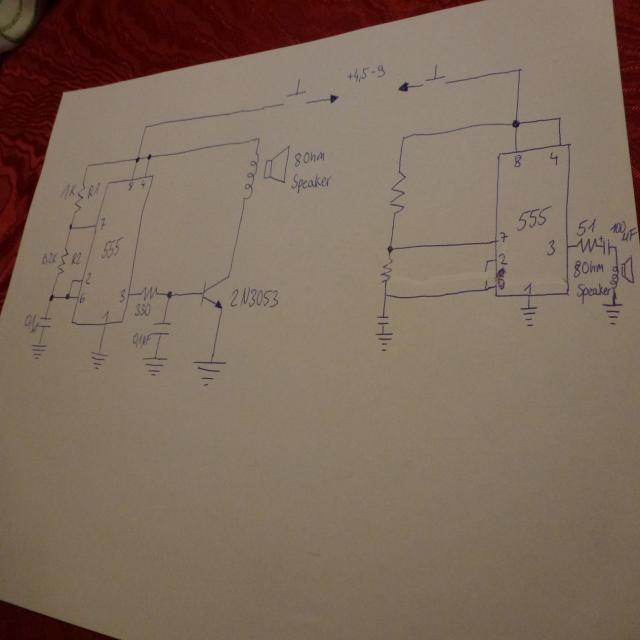capacitor: (150, 318, 170, 339), (597, 233, 611, 256), (38, 316, 52, 330), (375, 313, 390, 326)
ground: (192, 356, 226, 387), (141, 354, 167, 376), (602, 301, 623, 326), (374, 331, 396, 354), (518, 304, 538, 328), (88, 349, 108, 371), (29, 339, 48, 362)
junction: (510, 116, 520, 130), (385, 242, 394, 256), (164, 288, 172, 300), (399, 131, 407, 142), (516, 65, 523, 73), (142, 122, 148, 130), (48, 293, 54, 301), (146, 152, 152, 160), (64, 292, 70, 300), (134, 154, 140, 162), (484, 257, 490, 264), (557, 113, 562, 121), (483, 284, 488, 292), (84, 162, 89, 169), (70, 277, 75, 283), (383, 291, 388, 297), (256, 136, 261, 141), (68, 223, 72, 229)
resistor: (387, 168, 407, 218), (72, 180, 86, 213), (379, 255, 394, 284), (576, 236, 597, 254), (138, 284, 156, 301), (56, 250, 66, 275)
source: (394, 80, 410, 93), (328, 92, 339, 104)
switch: (279, 76, 310, 110), (417, 61, 449, 90)
text: (228, 285, 279, 309), (290, 171, 332, 194), (515, 205, 548, 232), (575, 281, 611, 305), (347, 63, 386, 83), (608, 221, 638, 242), (294, 150, 326, 168), (572, 259, 605, 276), (100, 236, 123, 260), (130, 330, 150, 350), (23, 311, 40, 334), (58, 182, 77, 201), (576, 217, 596, 234), (132, 301, 150, 317), (39, 250, 57, 266), (86, 181, 101, 200), (496, 268, 506, 290), (70, 250, 82, 266), (497, 251, 509, 266), (548, 150, 558, 167), (546, 238, 555, 256), (522, 280, 532, 296), (498, 229, 508, 244), (514, 153, 522, 168), (117, 287, 125, 302), (101, 309, 110, 320), (138, 178, 146, 189), (127, 179, 135, 190), (84, 272, 91, 284), (99, 216, 106, 228), (78, 292, 85, 303)
transistor: (199, 273, 226, 310)
